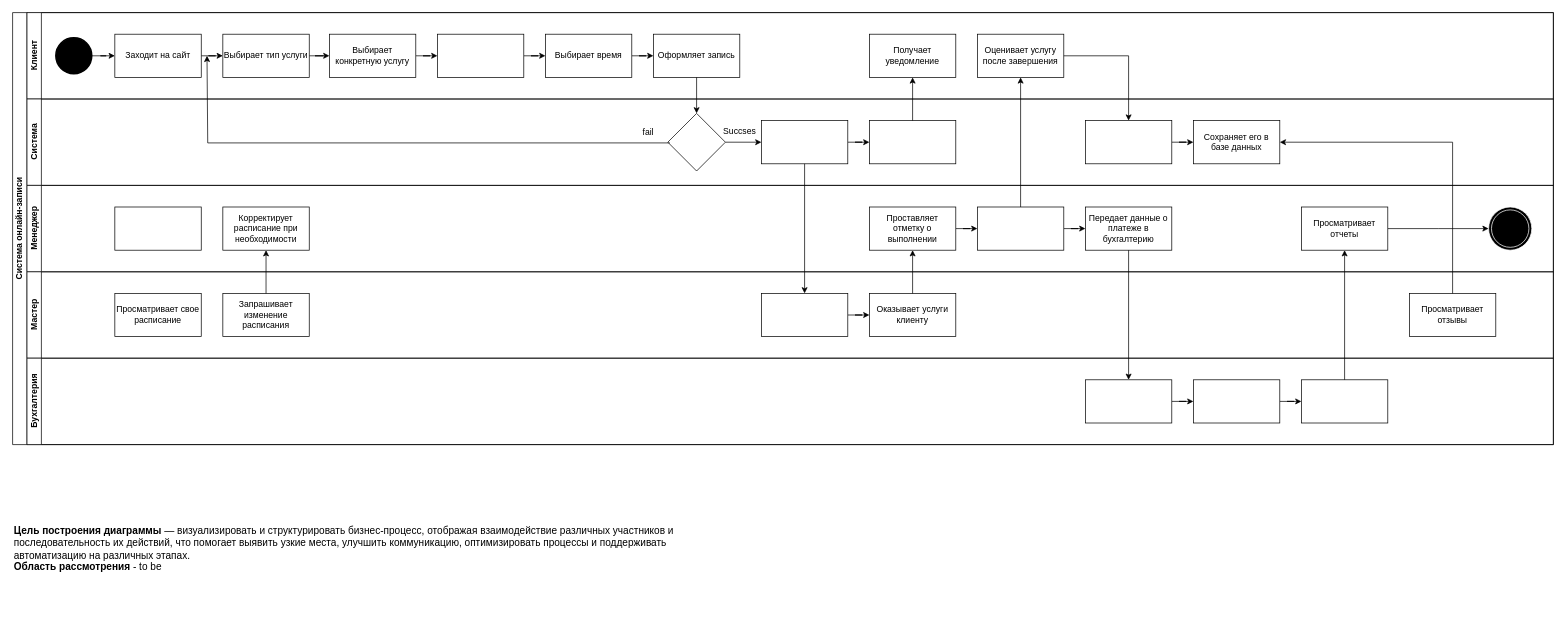
Image size: 1566x623. Some labels were removed from this diagram. The shapes that lost their labels are listed below. From the top down, each one's centre as x and y in pixels, then its label:
the point at 480,55: Выбирает мастера
the point at 696,142: Обработка
the point at 804,142: Сохраняет запись в базе данных
the point at 912,142: Отправляет уведомление
the point at 1128,142: Получает отзыв клиента
the point at 157,228: Вводит расписание мастеров
the point at 1020,228: Принимает оплату от клиента
the point at 804,315: Просматривает список записей
the point at 1128,401: Получает информацию о платеже
the point at 1236,401: Проводит учет оплат
the point at 1344,401: Создает финансовые отчеты
